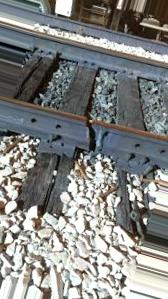tracks_fault: (70, 106, 117, 166)
